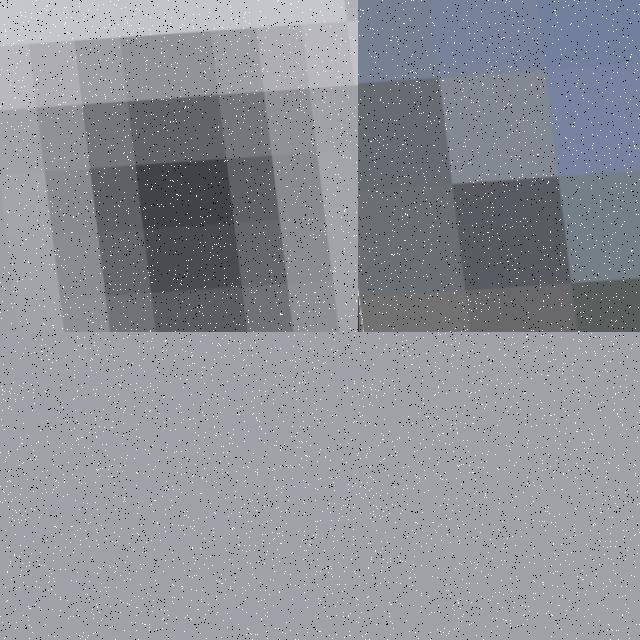0: (0, 0, 358, 332)
drone: (358, 0, 640, 332)
